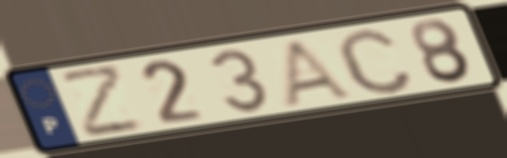2: (139, 57, 209, 127)
3: (202, 46, 273, 115)
8: (409, 17, 473, 87)
A: (280, 36, 360, 108)
C: (332, 25, 418, 97)
Z: (57, 61, 148, 140)
